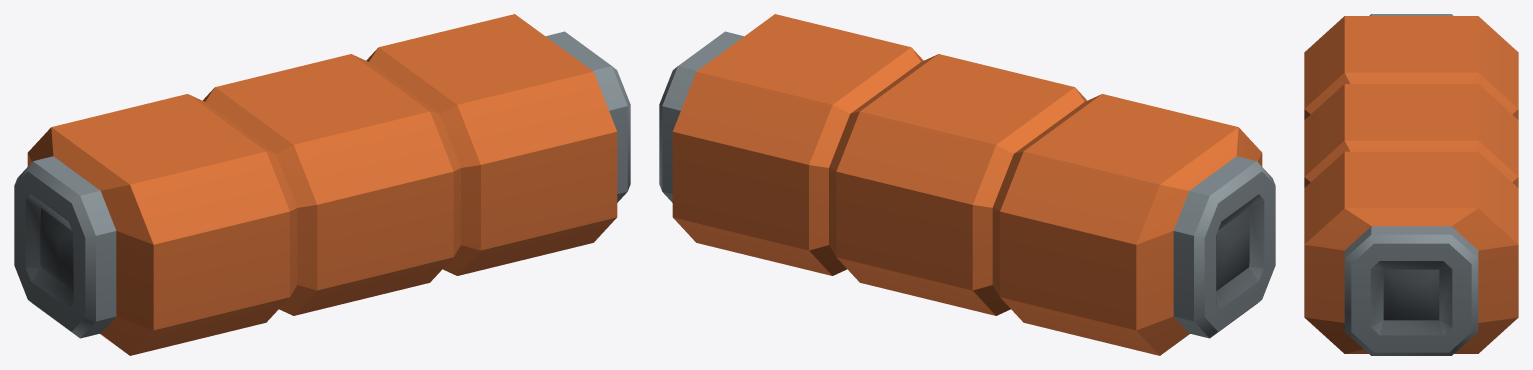
Rendered from tunnel_straight_b.glb.
The picture shows the model from 3 angles, left to right: view 1: azimuth 30°, elevation 25°; view 2: azimuth 150°, elevation 25°; view 3: azimuth 270°, elevation 25°; orthographic projection. The views are drawn at different scales.
Parts seen in each view (by area): view 1: tunnel_straight_B; view 2: tunnel_straight_B; view 3: tunnel_straight_B.
Boxes of the visible parts, left/top/right/bottom form: tunnel_straight_B: left=14, top=14, right=630, bottom=355; tunnel_straight_B: left=659, top=14, right=1275, bottom=355; tunnel_straight_B: left=1304, top=14, right=1518, bottom=355.
Bounding box in the file's own units: 6 × 1.8 × 2.4.
Materials: 1 (1 with a texture image).
